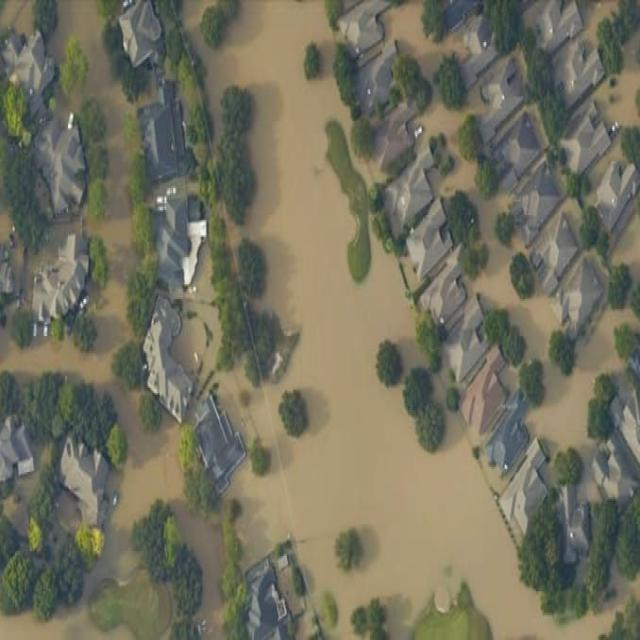flooded_areas: (42, 3, 626, 630)
